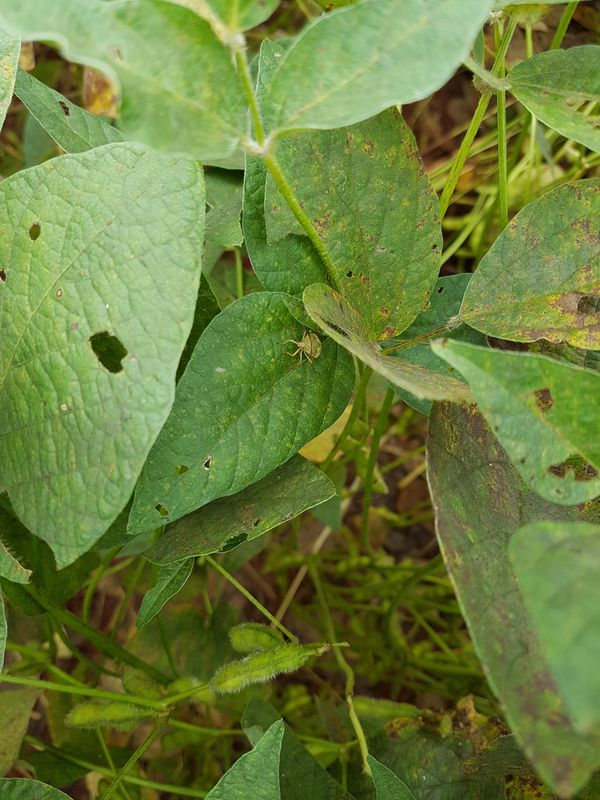Euschistus_heros_ninfa: (278, 322, 330, 371)
